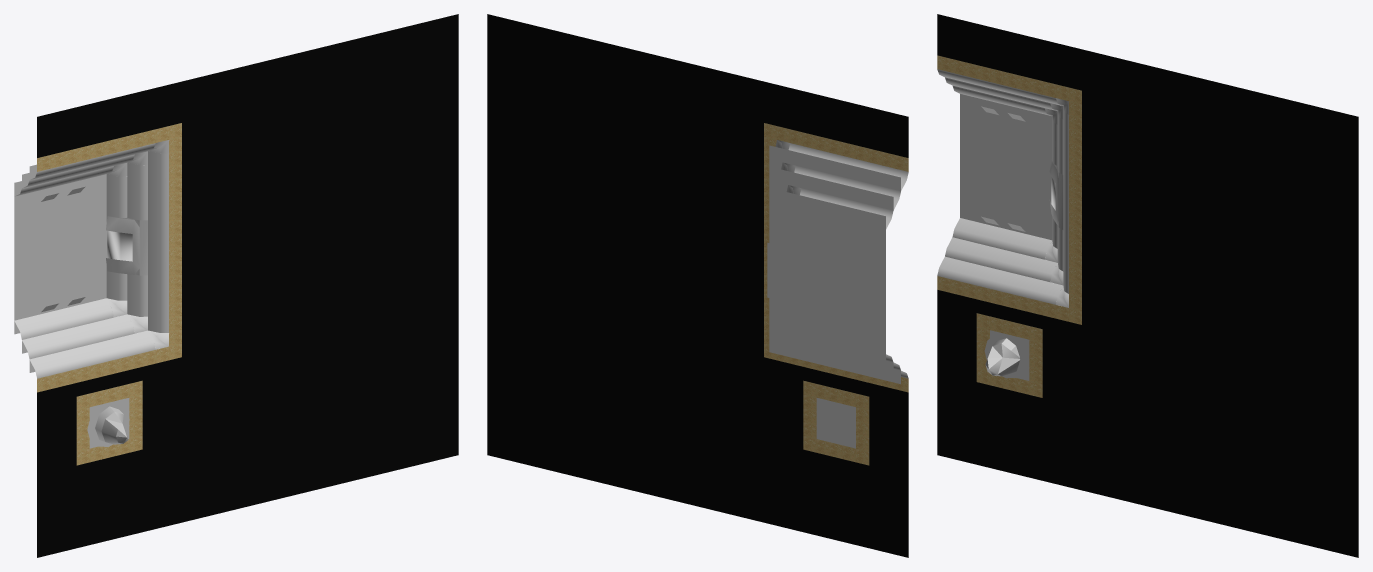
Rendered from Uluru-Cave-2_04_02.obj.
3 renders of one model, left to right at view 1: azimuth 30°, elevation 25°; view 2: azimuth 150°, elevation 25°; view 3: azimuth 330°, elevation 25°, orthographic.
Visible parts, largest first — view 1: map; view 2: map; view 3: map.
Part boxes in pixels (x1,y1,x2,y2): map: (14, 14, 458, 557); map: (487, 14, 908, 557); map: (937, 14, 1358, 557).
Bounding box in the file's own units: 32 × 32 × 5.54.
